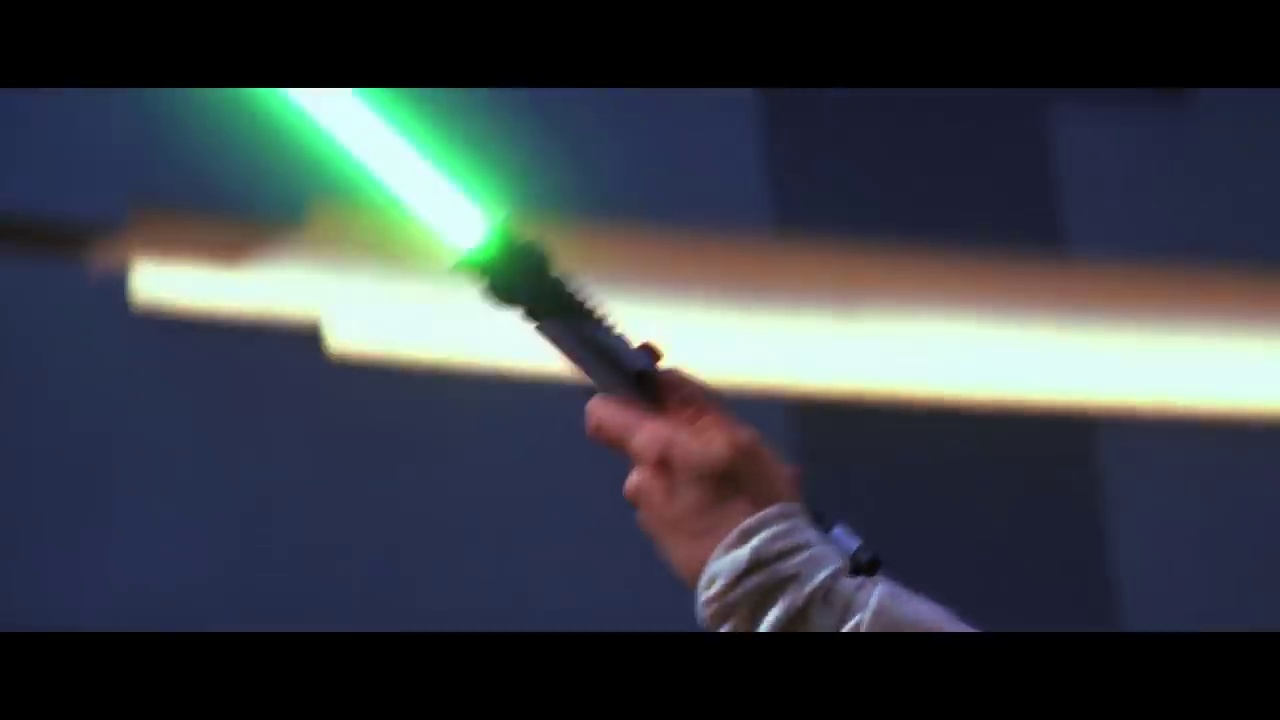lightsaber: (275, 86, 598, 407)
